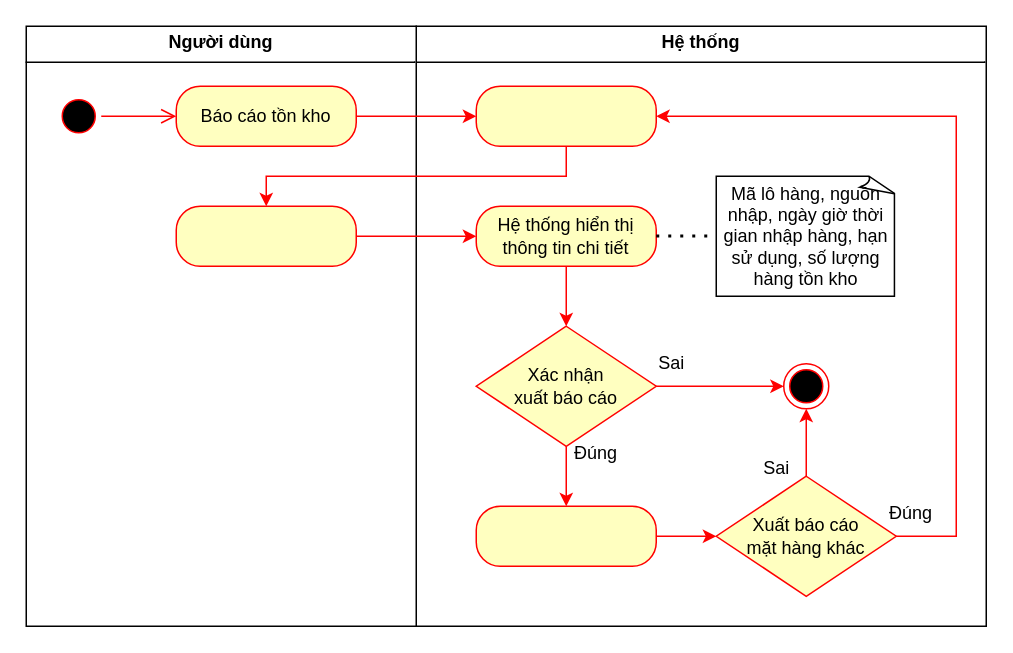
This 1013x653 diagram has some shape labels left out. The shapes that lost their labels are listed below. From the top down, each one's centre as x and y in pixels, then its label:
[565,115]: Hiển thị danh sách mặt hàng
[265,235]: Chọn mặt hàng
[565,535]: Xuất báo cáo
